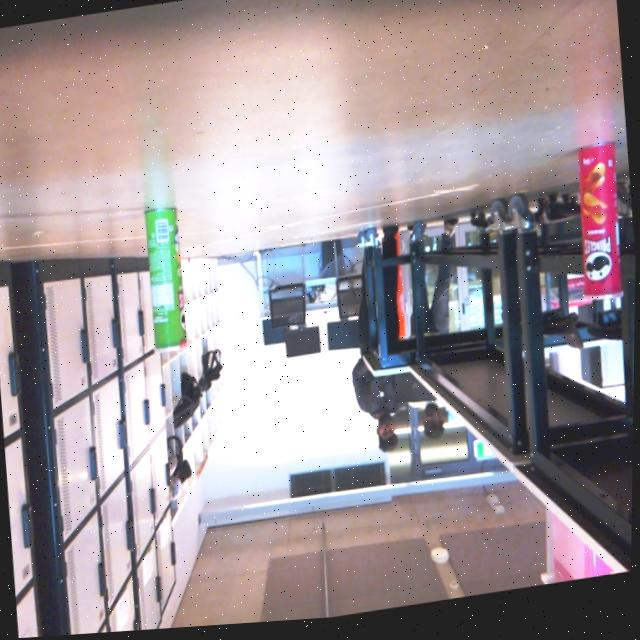greenpringles: (128, 195, 204, 365)
redpringles: (558, 136, 638, 337)
